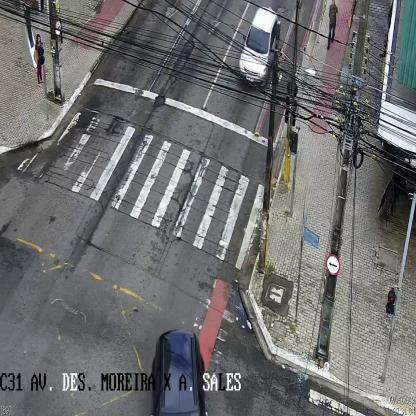car: (151, 330, 204, 416), (239, 6, 280, 87)
person: (33, 33, 45, 85), (326, 0, 338, 52)
